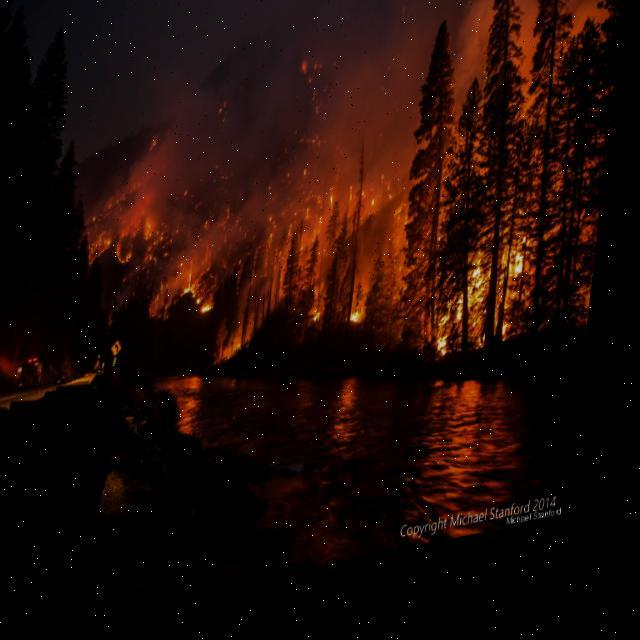Fire: (75, 24, 572, 431)
